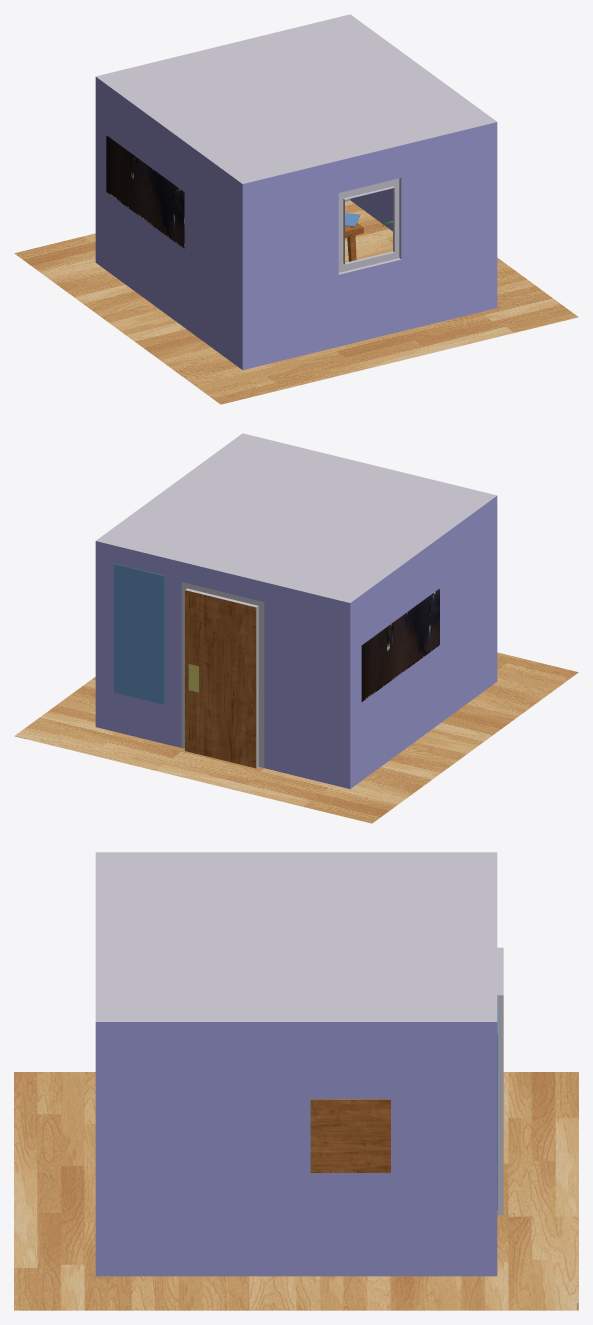
The model's file is demo_scene.dae.
3 renders of one model, top to bottom at view 1: azimuth 30°, elevation 25°; view 2: azimuth 150°, elevation 25°; view 3: azimuth 270°, elevation 25°, orthographic. The views are drawn at different scales.
Visible parts, largest first — view 1: Room, Cube_001; view 2: Room, mirror_001, Cube_001; view 3: Room, Cube.
Part boxes in pixels (x1,y1,x2,y2): Room: [14, 14, 578, 404]; Cube_001: [106, 135, 184, 248]; Room: [14, 433, 578, 823]; mirror_001: [114, 564, 164, 704]; Cube_001: [361, 588, 439, 701]; Room: [14, 852, 578, 1310]; Cube: [310, 1099, 390, 1172].
Size of the model in its own units: 14.06 by 14.06 by 7.63.
Materials: 21 (4 with a texture image).
